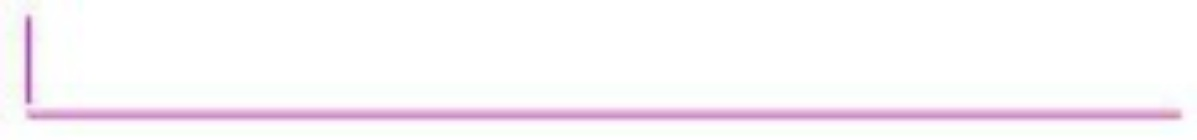EditText: (1, 1, 1196, 139)
